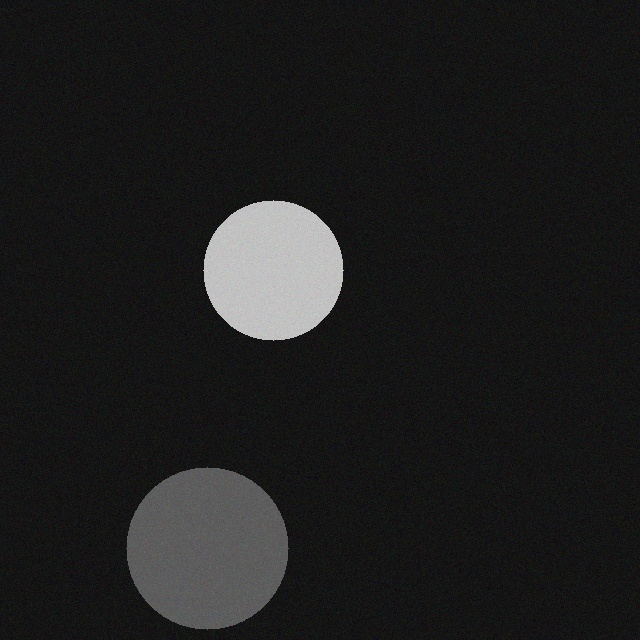circle: (133, 467, 295, 629), (210, 200, 350, 340)
